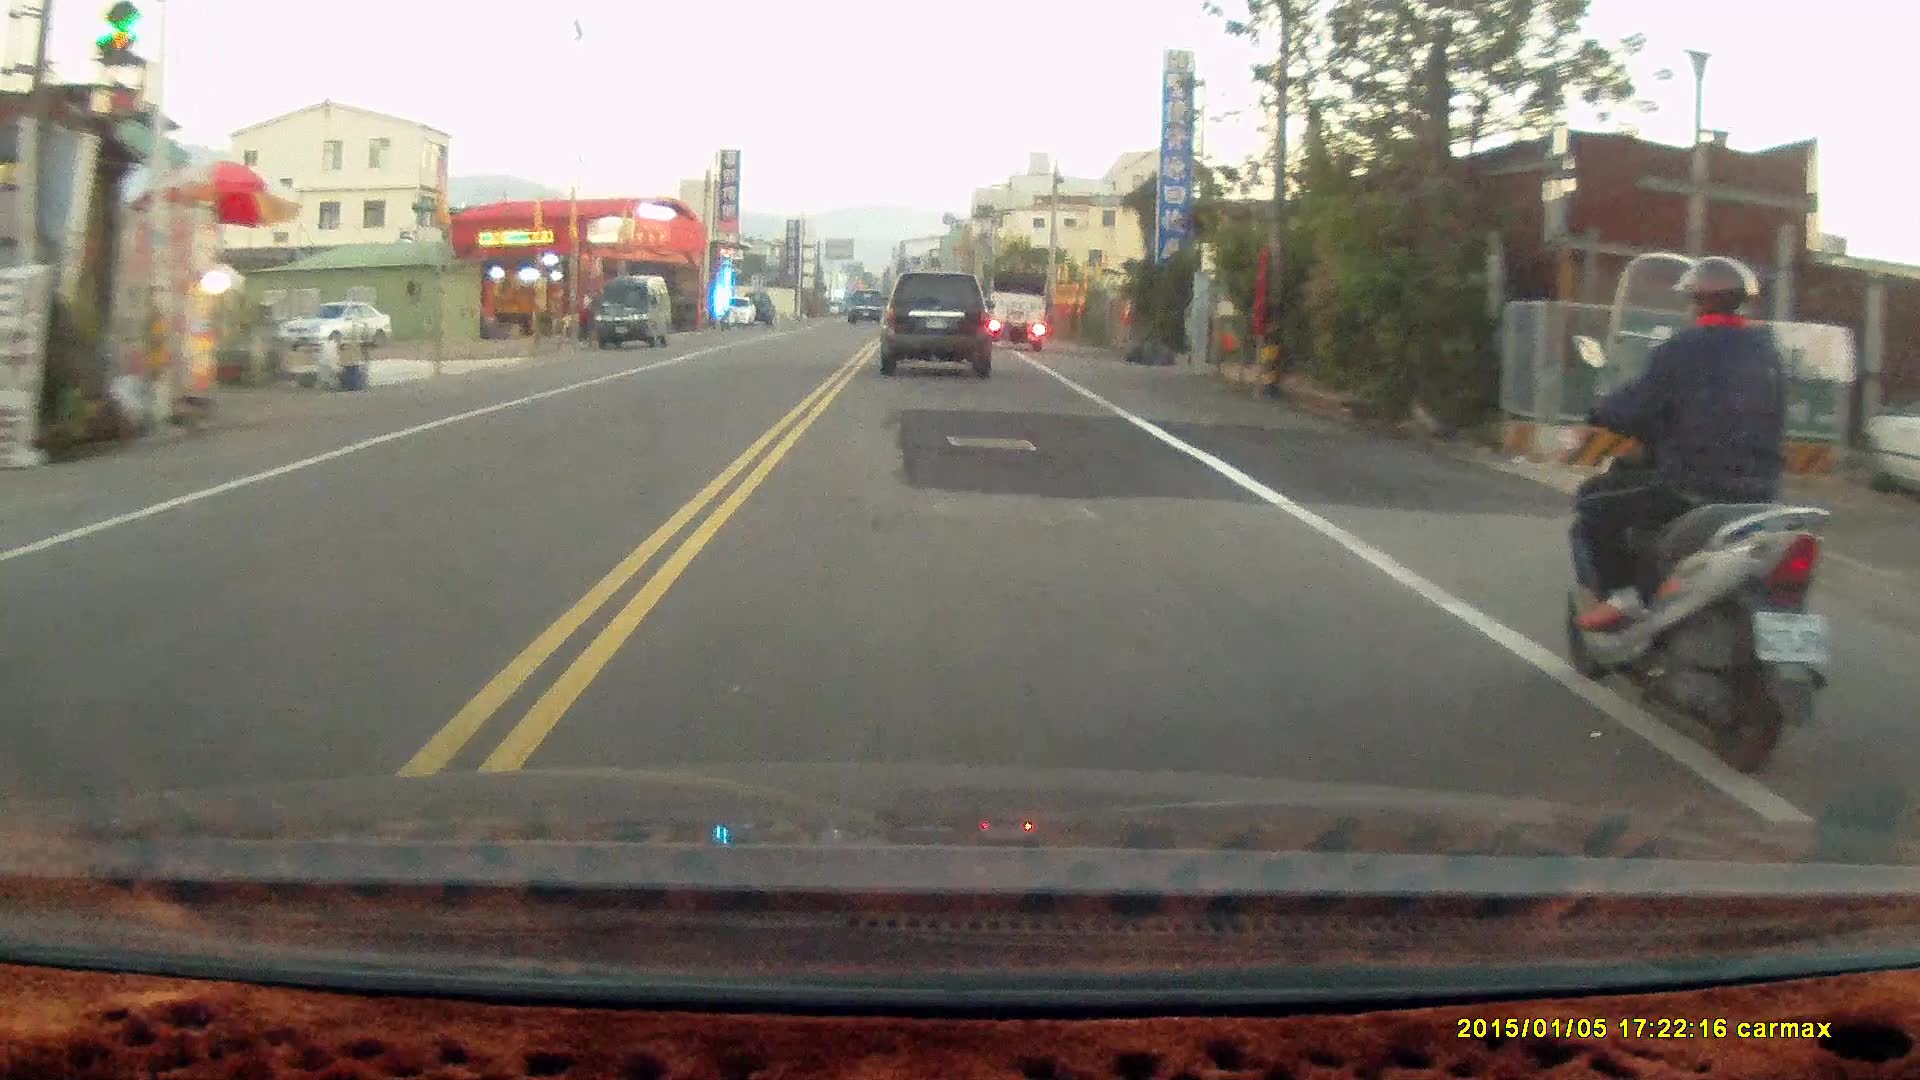rider: (1561, 253, 1828, 772)
vehicle: (880, 273, 998, 379), (593, 275, 674, 352), (281, 300, 394, 352), (987, 272, 1050, 352)
